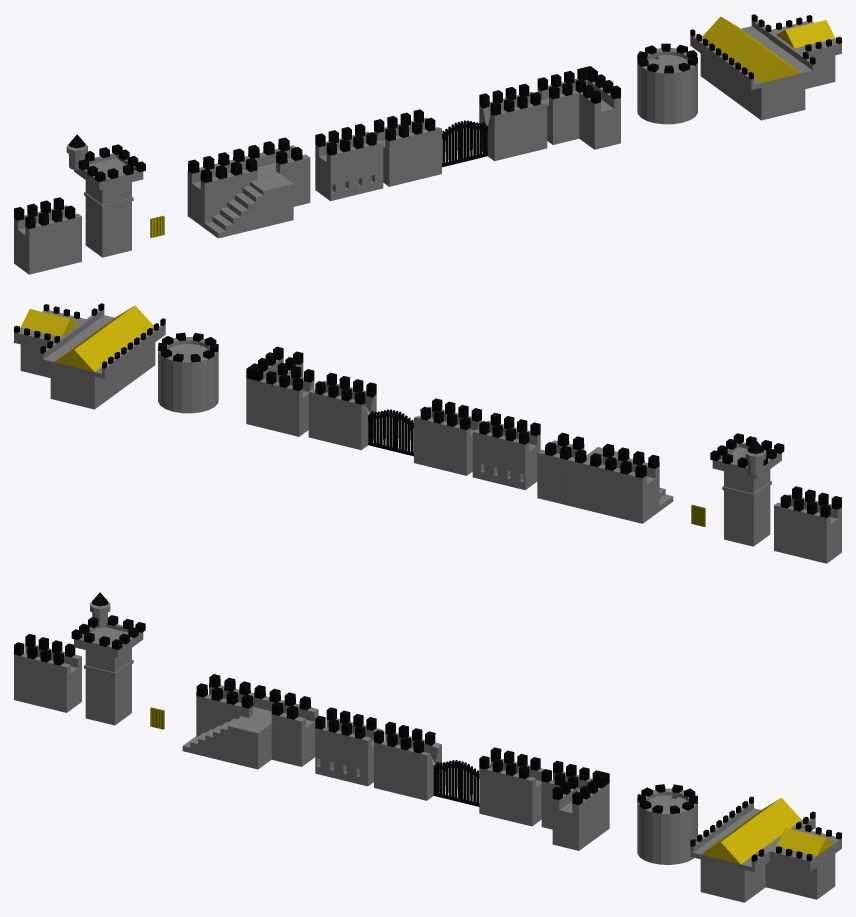
Rendered from blender kasteelzelfde kleuren2.fbx.
The picture shows the model from 3 angles, top to bottom: view 1: azimuth 30°, elevation 25°; view 2: azimuth 150°, elevation 25°; view 3: azimuth 330°, elevation 25°; orthographic projection.
Visible parts, largest first — view 1: hoofd kasteel, poortmuur, muur met trap, uitkijktoren, hoekmuur, woontoren, schietmuur, muur; view 2: hoofd kasteel, poortmuur, muur met trap, uitkijktoren, hoekmuur, woontoren, muur, schietmuur; view 3: hoofd kasteel, poortmuur, muur met trap, uitkijktoren, hoekmuur, woontoren, muur, schietmuur.
Part boxes in pixels (x1,y1,x2,y2): hoofd kasteel: (690,14,841,120); poortmuur: (374,83,547,186); muur met trap: (187,137,310,238); uitkijktoren: (66,134,145,257); hoekmuur: (537,66,620,149); woontoren: (637,43,697,124); schietmuur: (315,123,383,201); muur: (14,197,81,274); hoofd kasteel: (14,303,165,409); poortmuur: (308,372,481,475); muur met trap: (537,432,673,523); uitkijktoren: (710,433,784,546); hoekmuur: (246,346,314,436); woontoren: (158,332,218,413); muur: (774,486,841,563); schietmuur: (472,412,540,490); hoofd kasteel: (690,796,841,902); poortmuur: (374,721,544,826); muur met trap: (182,674,318,769); uitkijktoren: (71,592,145,725); hoekmuur: (541,760,609,850); woontoren: (637,784,697,864); muur: (14,634,81,712); schietmuur: (315,707,383,786).
Bounding box in the file's own units: 9155 × 1224 × 1200.
